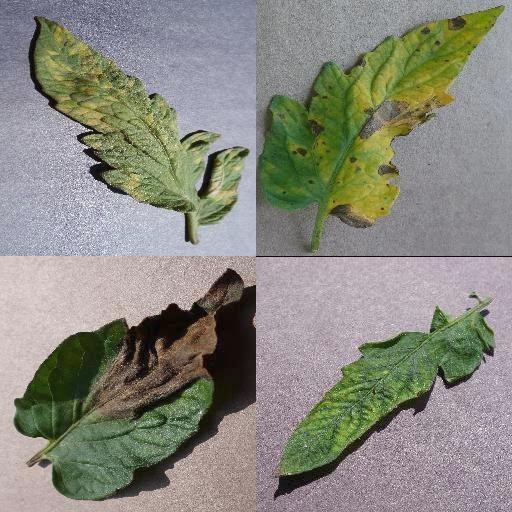Early Blight: (258, 5, 506, 229)
Late Blight: (14, 266, 248, 500)
Leaf Mold: (33, 14, 250, 226)
Mosaic Virus: (269, 306, 496, 479)
